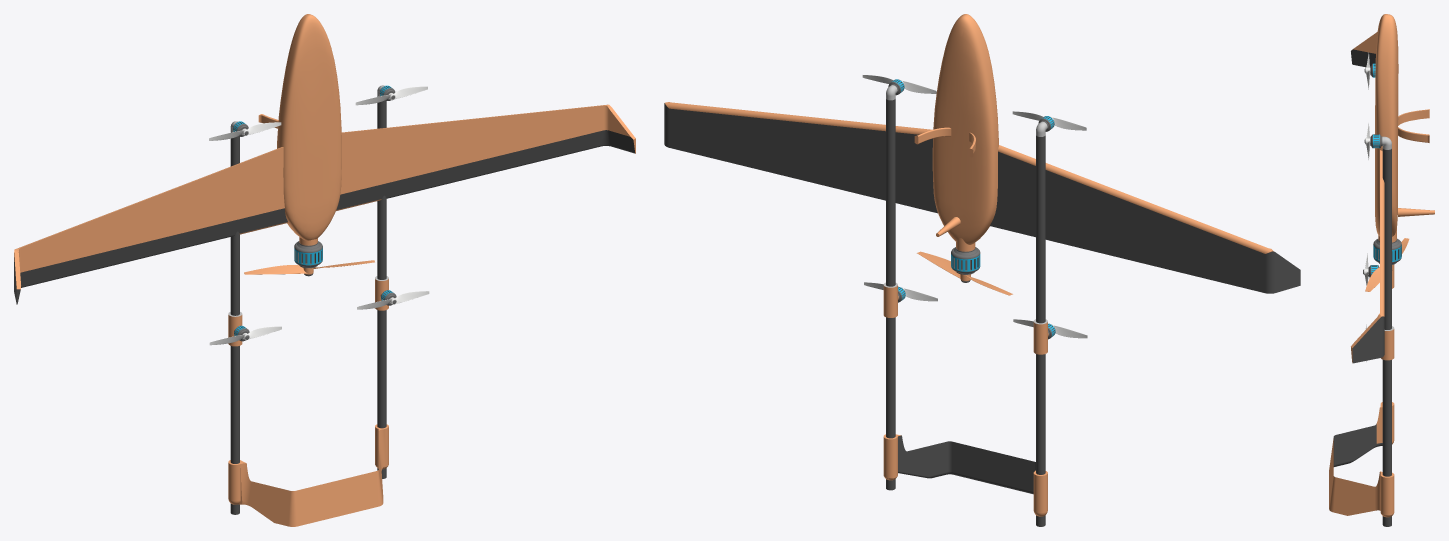
File: Ares Vtol.gltf
The picture shows the model from 3 angles, left to right: view 1: azimuth 30°, elevation 25°; view 2: azimuth 150°, elevation 25°; view 3: azimuth 270°, elevation 25°; orthographic projection. The views are drawn at different scales.
Parts seen in each view (by area): view 1: 3DGeom-87, 3DGeom-88, 3DGeom-269; view 2: 3DGeom-88, 3DGeom-87, 3DGeom-268, 3DGeom-269; view 3: 3DGeom-87, 3DGeom-88, 3DGeom-269, 3DGeom-268, 3DGeom-196, 3DGeom-843, Body_1, 3DGeom-844, 3DGeom-387.
Part boxes in pixels (x1,y1,x2,y2): 3DGeom-87: (14,14,635,289); 3DGeom-88: (14,100,635,514); 3DGeom-269: (228,424,388,526); 3DGeom-88: (664,99,1300,526); 3DGeom-87: (665,14,1273,253); 3DGeom-268: (898,435,1035,494); 3DGeom-269: (883,434,1047,516); 3DGeom-87: (1351,14,1434,362); 3DGeom-88: (1351,49,1391,526); 3DGeom-269: (1329,402,1394,515); 3DGeom-268: (1333,424,1382,466); 3DGeom-196: (1381,329,1394,360); 3DGeom-843: (1373,238,1401,270); Body_1: (1365,238,1409,291); 3DGeom-844: (1373,244,1401,261); 3DGeom-387: (1364,134,1382,148).
Bounding box in the file's own units: 1.53 × 1.13 × 0.2289.
